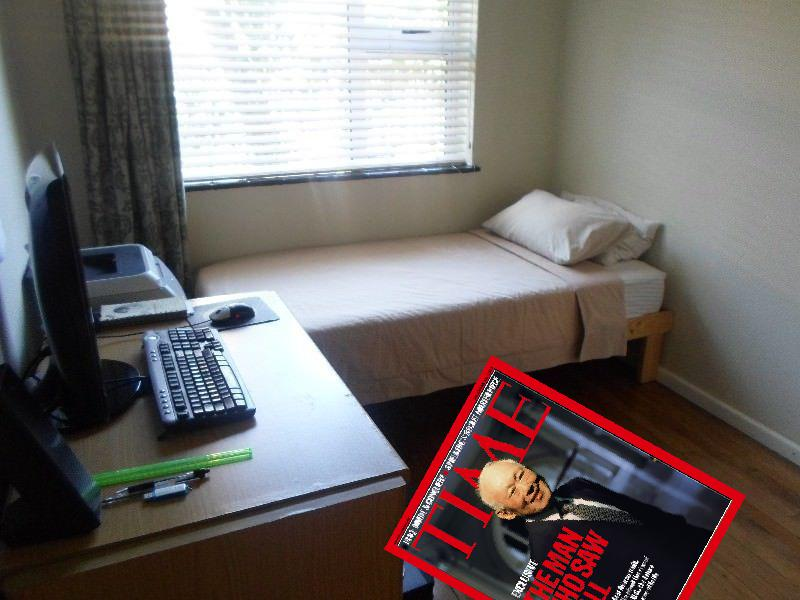times: (382, 351, 748, 600)
